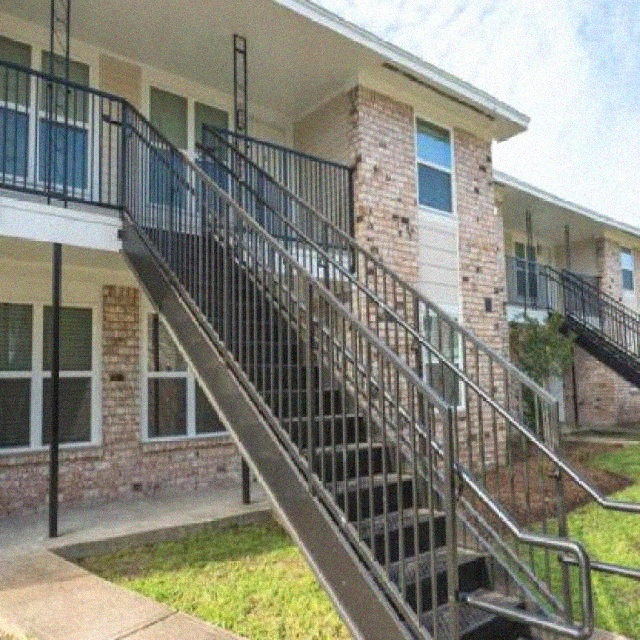stair: (81, 92, 637, 639)
